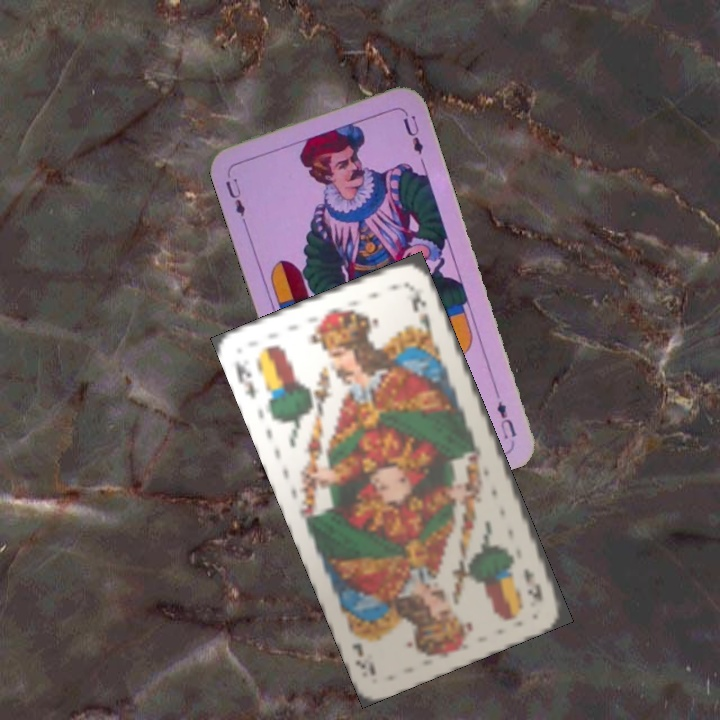EK: (231, 356, 259, 402), (519, 564, 545, 605)
EU: (221, 166, 249, 224), (493, 397, 519, 442)
